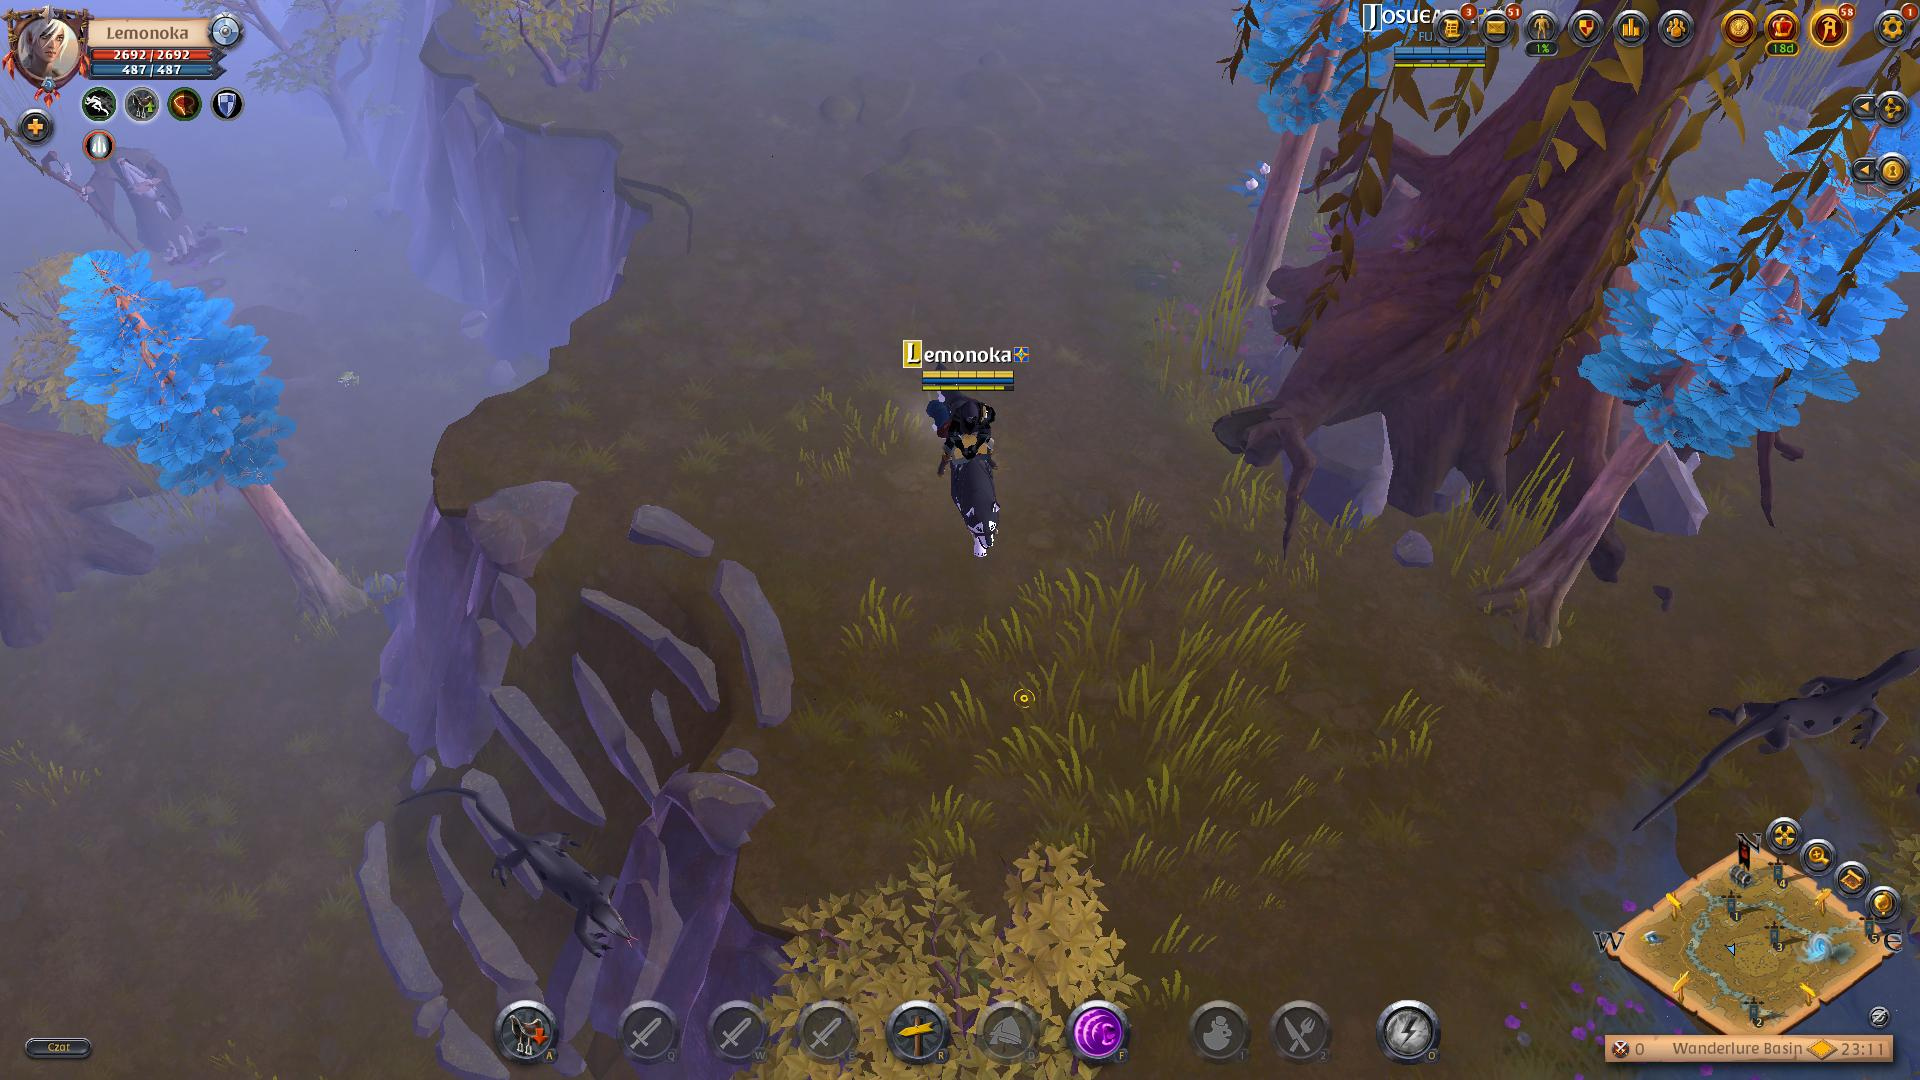wood tier 4: (51, 240, 297, 498)
